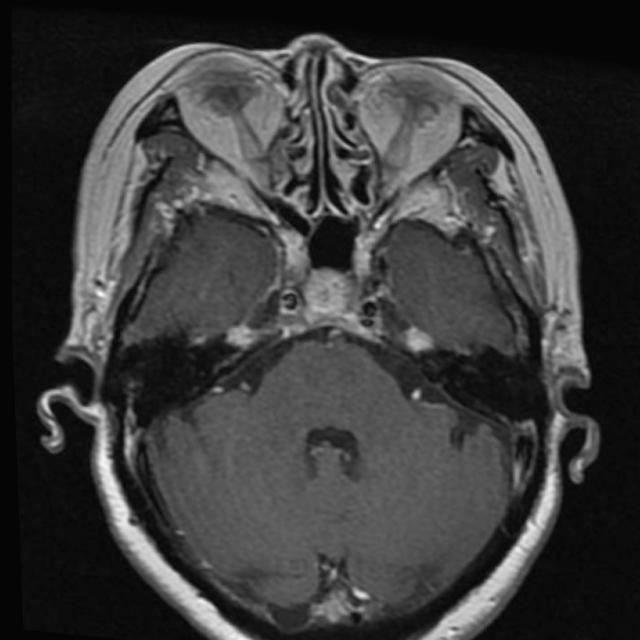Pituitary: (300, 264, 353, 317)
